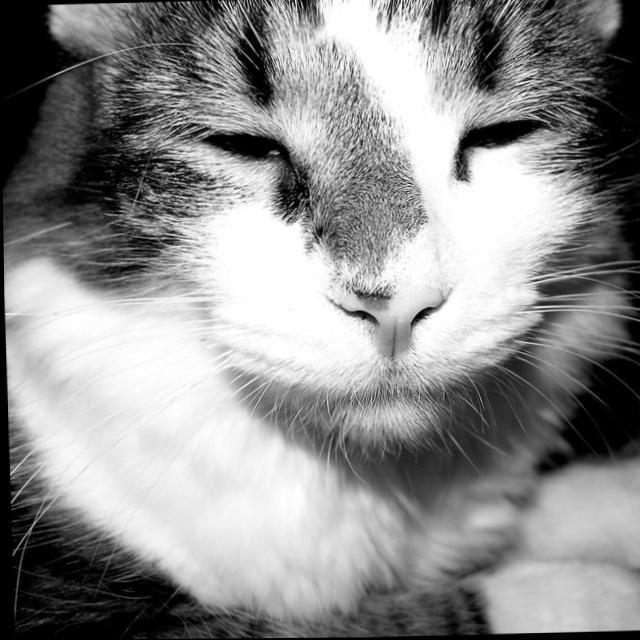animals: (1, 0, 640, 360)
